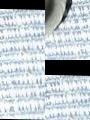ironball: (44, 0, 69, 37)
